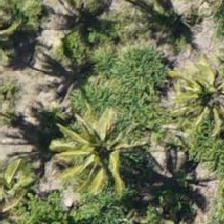coconut_tree: (42, 103, 132, 193), (165, 53, 223, 143)
